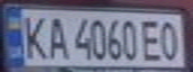0: (87, 16, 109, 61), (121, 16, 142, 62)
4: (69, 15, 93, 61)
6: (106, 16, 124, 61)
A: (42, 12, 69, 60)
E: (139, 17, 166, 62)
K: (18, 11, 51, 61)
O: (157, 18, 184, 62)
